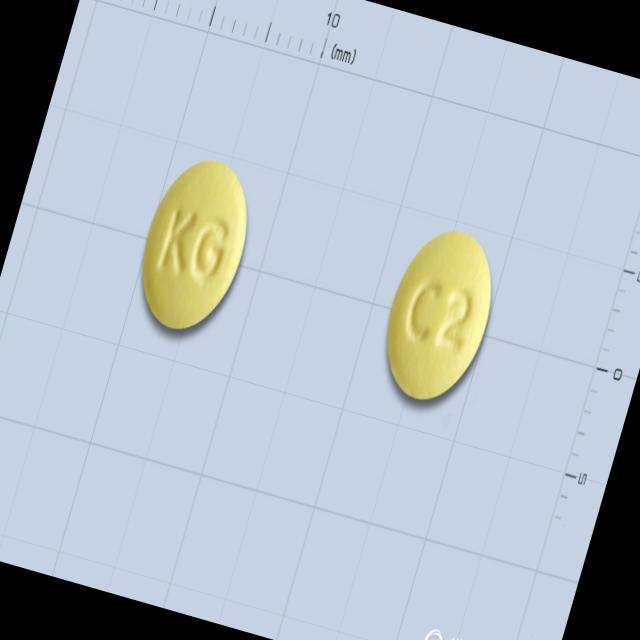Globit: (366, 216, 510, 417), (124, 146, 266, 342)
